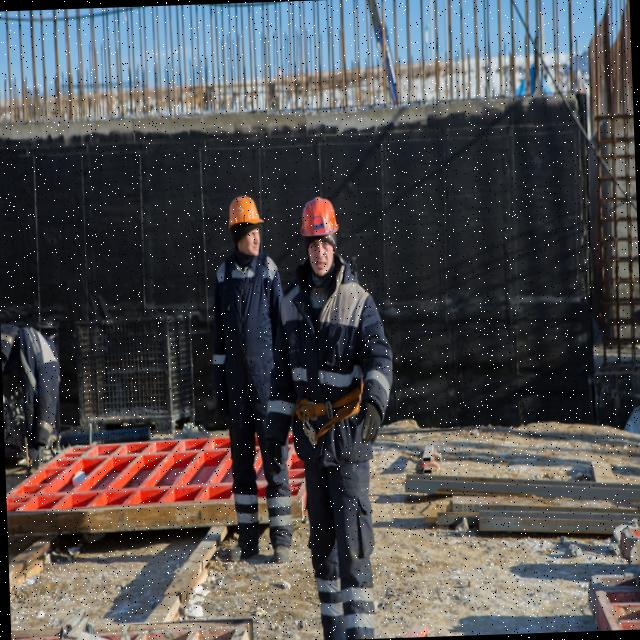Helmet: (301, 197, 342, 245), (227, 195, 266, 234)
NoJacket: (287, 266, 366, 449), (218, 243, 276, 408)
